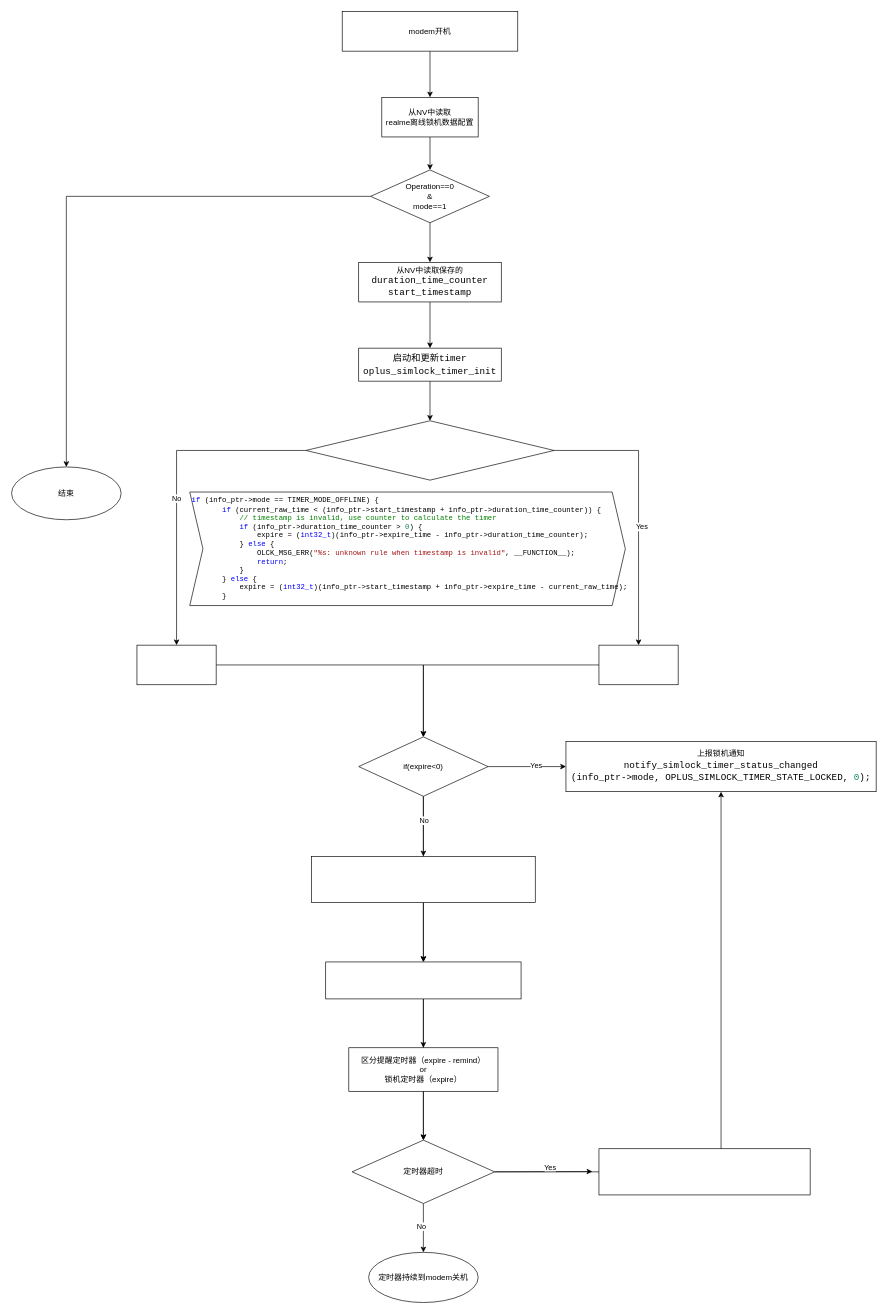
Some shapes in this 888 by 1314 pixel diagram are drawn without their labels. Here are the shapes that lost their labels. From the top down, the centre of each, then its label:
(429,450): 判断当前时间是否被前调 current_raw_time>=( start_timestamp+ duration_time_counter )
(176,664): 剩余锁机净时长expire计算公式为未来锁机时间-当前时间
(638,664): 计算expire_time-duration_time_counter的剩余锁机净时长expire
(423,879): 启动10s周期累加定时器 start_time_counter_periodic_check_timer
(423,980): 启动一个时长为expire的timer start_simlock_timer (s_timer_index, ( uint32_t )expire);
(704,1171): 上报提醒通知or锁机通知 （同一个函数，提醒通知中剩余锁机时长为提醒时长， 锁机通知中剩余锁机时长为0）
